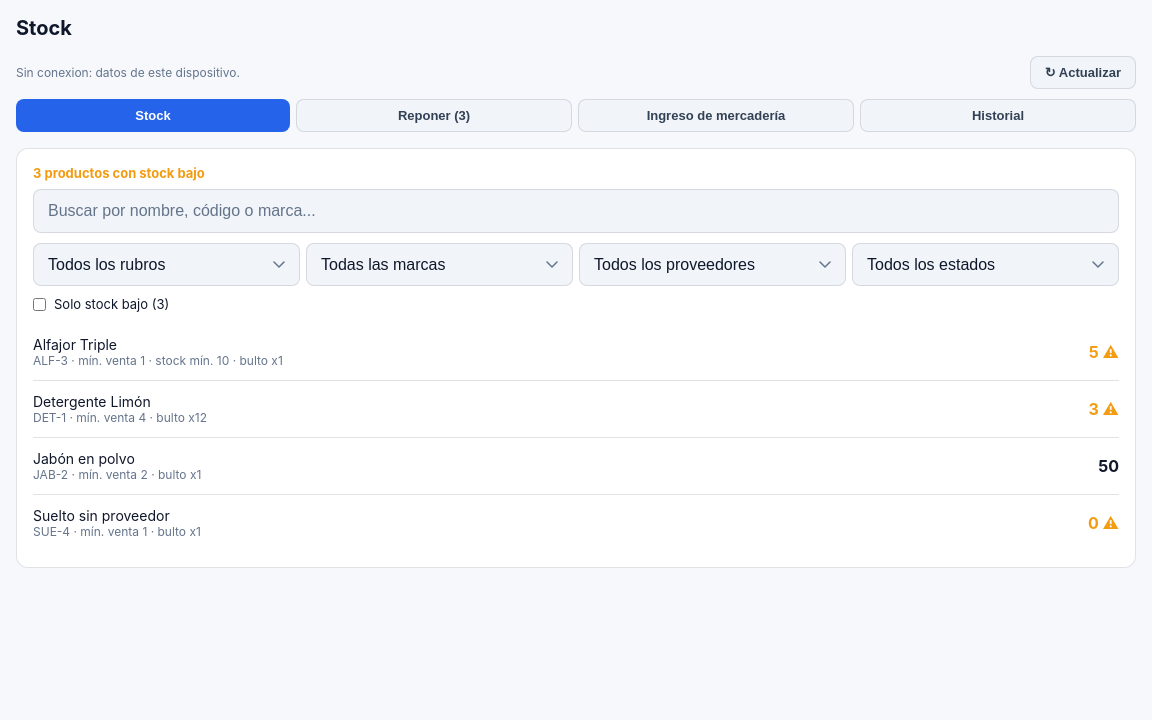
Test: AC-STB-3 Reponer: agregar al pedido al proveedor › AC-STB-3 por producto: agrega al borrador del proveedor la cantidad sugerida (redondeada al bulto)
Click the button "Reponer (3)": [434, 116] box [296,99,572,132]
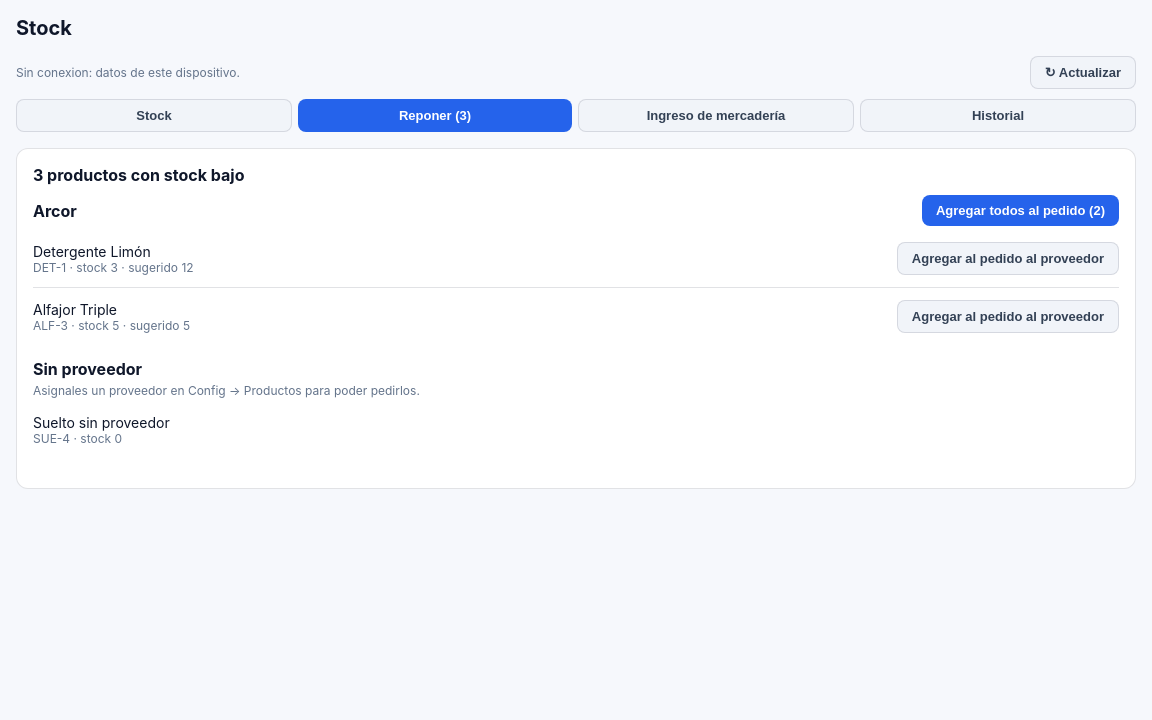
Click the button "Agregar al pedido al proveedor" in the row of "· sugerido 12": [1008, 258] box [897,242,1119,275]
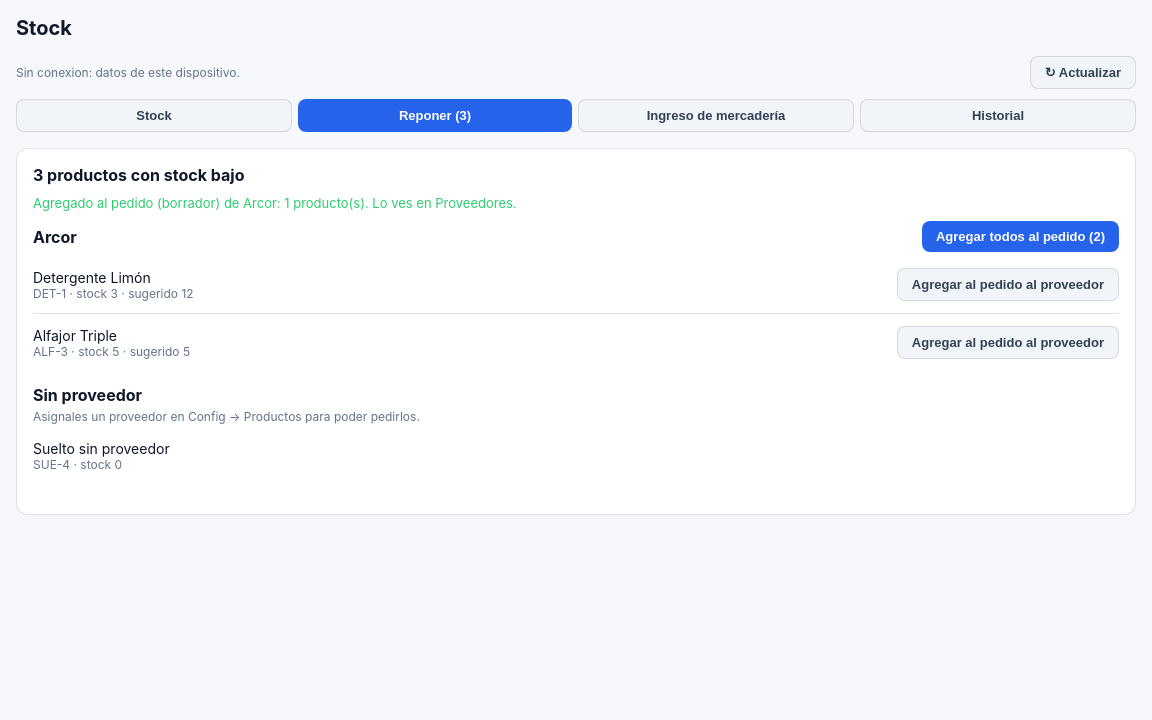
Expected: the message "Agregado al pedido (borrador) de Arcor: 1 producto(s). Lo ves en Proveedores." is shown, [33,195,517,211]
